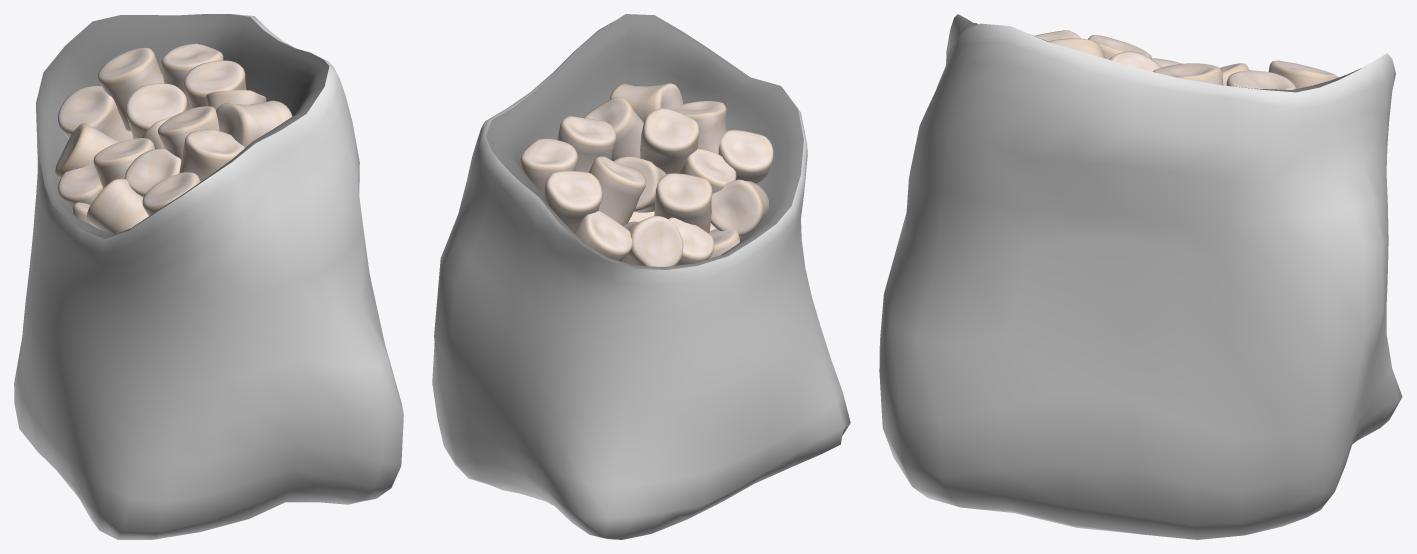
Rendered from Marshmallow Bag.fbx.
The picture shows the model from 3 angles, left to right: view 1: azimuth 30°, elevation 25°; view 2: azimuth 150°, elevation 25°; view 3: azimuth 270°, elevation 25°; orthographic projection. The views are drawn at different scales.
Visible parts, largest first — view 1: Bag, Marshmallow Merged; view 2: Bag, Marshmallow Merged; view 3: Bag, Marshmallow Merged.
Part boxes in pixels (box(x1,y1,x2,y2)): Bag: box(14, 14, 403, 539); Marshmallow Merged: box(55, 43, 292, 233); Bag: box(432, 14, 850, 539); Marshmallow Merged: box(520, 83, 773, 266); Bag: box(879, 14, 1402, 539); Marshmallow Merged: box(1034, 30, 1338, 89).
Size of the model in its own units: 34.89 by 45.9 by 43.99.
